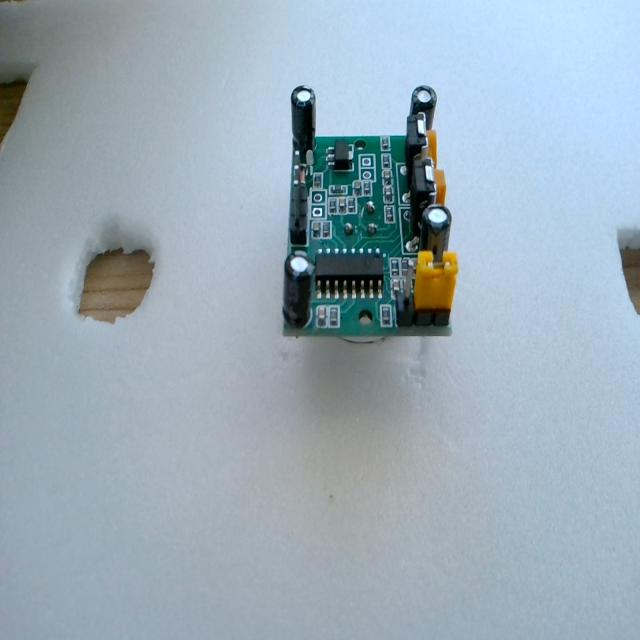Electrolytic capacitor: (285, 77, 325, 151), (282, 252, 315, 328), (420, 204, 453, 262), (410, 85, 438, 131)
IC: (314, 252, 384, 297)
